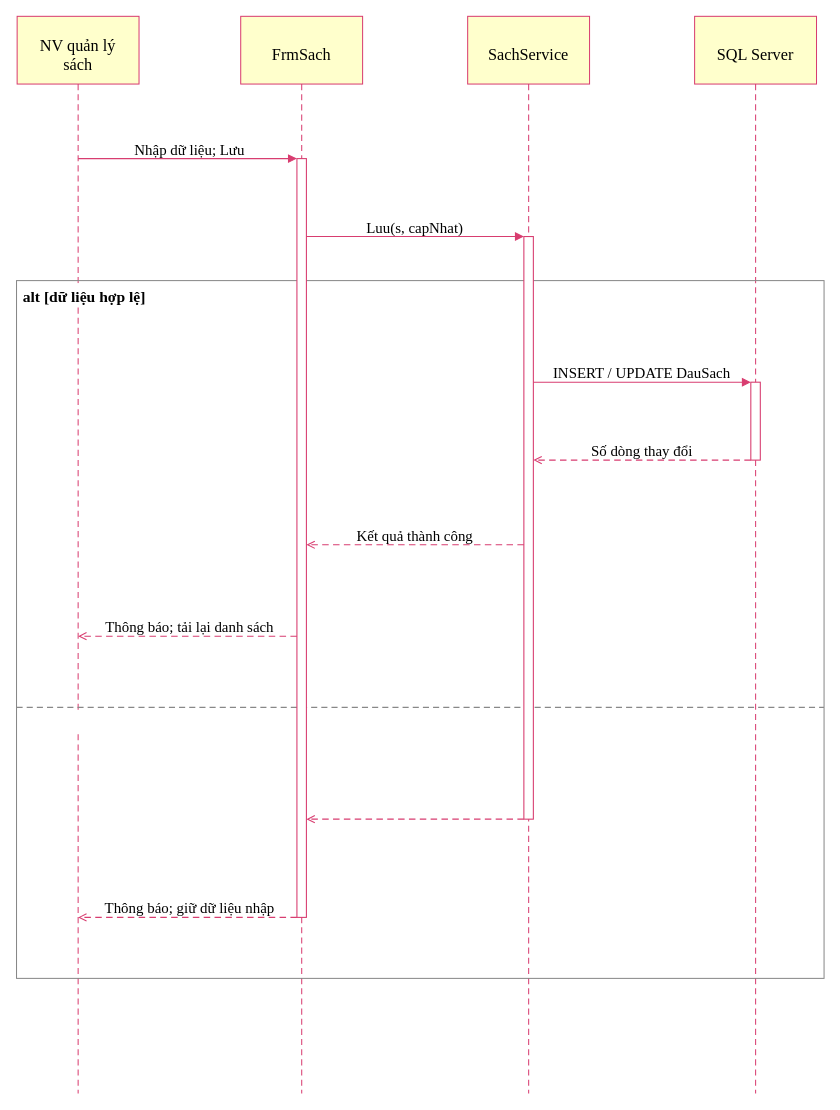
The diagram is 840 pixels wide and 1110 high, and some of its shapes have lost their labels. Each missing label, with the box of its shape:
[thiếu dữ liệu hoặc lỗi lưu]: (23, 710, 195, 731)
Kết quả lỗi: (380, 796, 450, 817)
